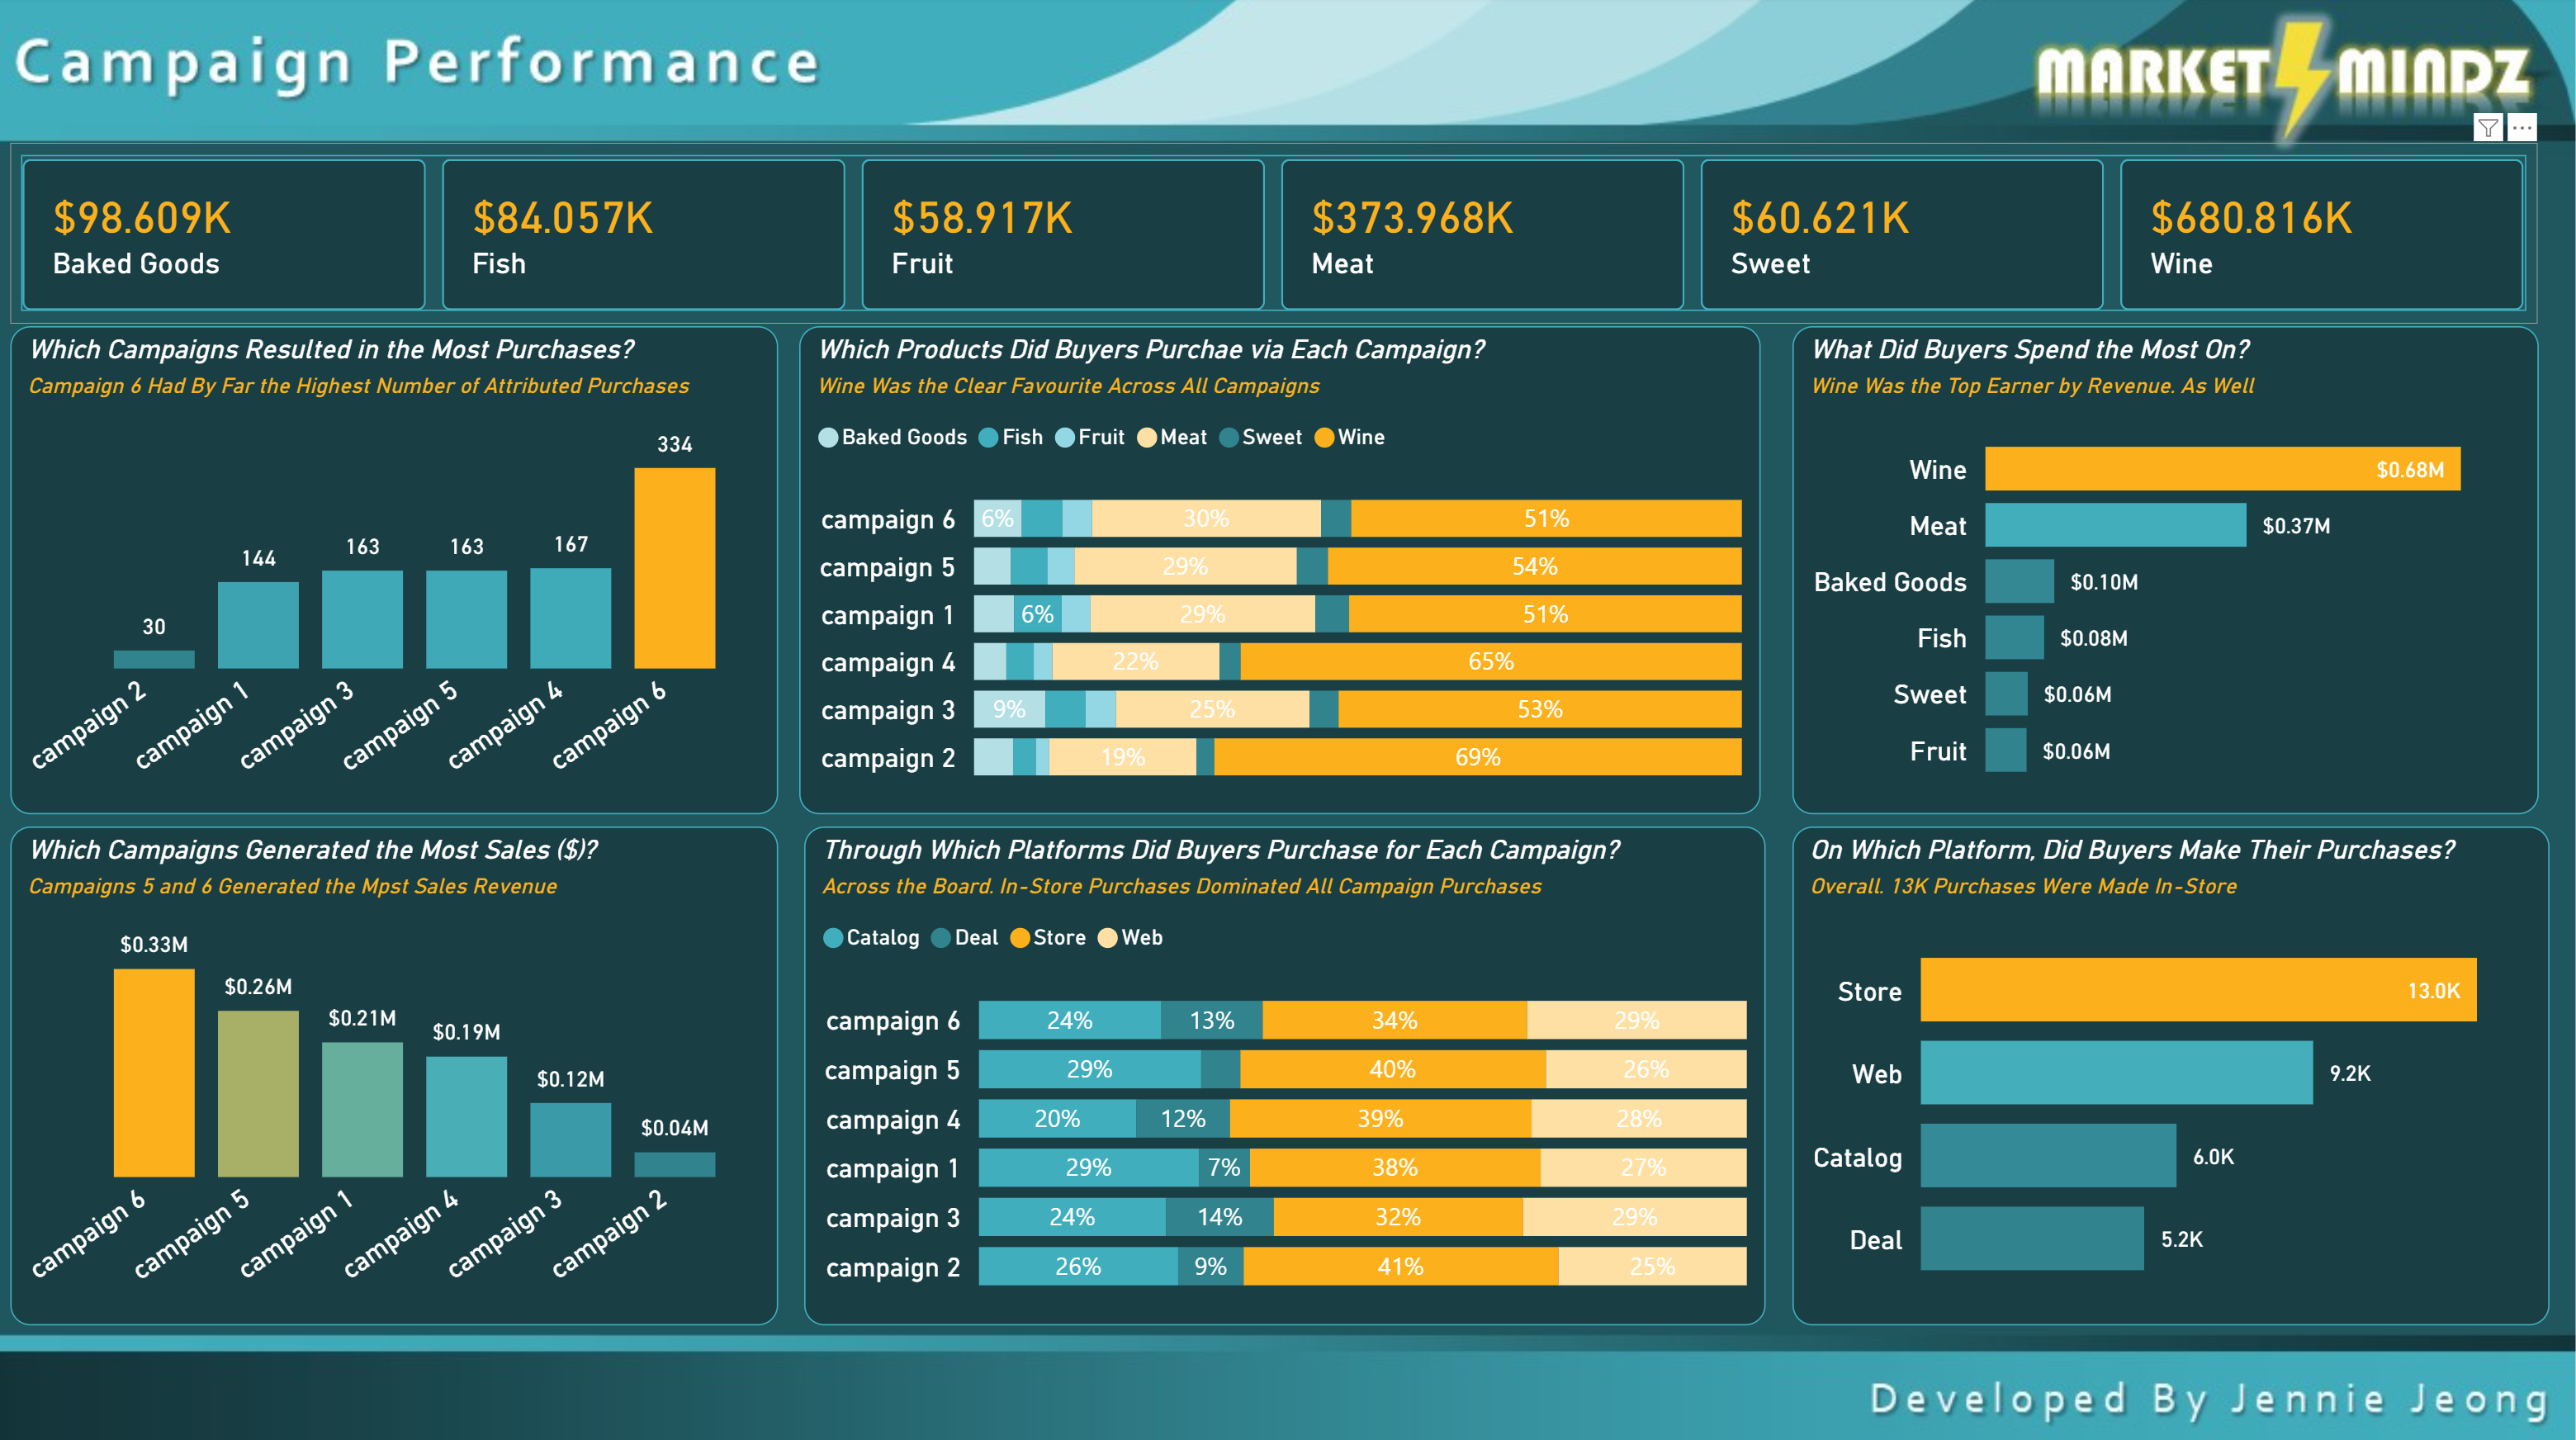

The dashboard page shown, as its layout file describes it:
{"tool":"powerbi","page":{"name":"Campaign Performance","canvas":[1280,720],"ordinal":0},"visuals":[{"type":"clusteredColumnChart","title":"Which Campaigns Resulted in the Most Purchases?","fields":{"Category":["Campaign.Campaign"],"Y":["Sum(Campaign.Accepted_Ind)"]},"box":[8.2,163.2,380.8,242.3],"z":0},{"type":"clusteredColumnChart","title":"Which Campaigns Generated the Most Sales ($)?","fields":{"Y":["Sum(Products.Total Sales)"],"Category":["Campaign.Campaign"]},"box":[8.2,411.1,380.8,247.3],"z":1000},{"type":"hundredPercentStackedBarChart","title":"Which Products Did Buyers Purchae via Each Campaign?","fields":{"Category":["Campaign.Campaign"],"Y":["Sum(Products.Total Sales)"],"Series":["Products.Product"]},"box":[399.1,163.2,476.9,242.3],"z":2000},{"type":"clusteredBarChart","title":"What Did Buyers Spend the Most On?","fields":{"Category":["Products.Product"],"Y":["Sum(Products.Total Sales)"]},"box":[891.2,163.2,370,242.3],"z":3000},{"type":"hundredPercentStackedBarChart","title":"Through Which Platforms Did Buyers Purchase for Each Campaign?","fields":{"Category":["Campaign.Campaign"],"Y":["Sum(Platform.Qty)"],"Series":["Platform.Platform"]},"box":[401.6,411.1,476.9,247.3],"z":4000},{"type":"clusteredBarChart","title":"On Which Platform, Did Buyers Make Their Purchases?","fields":{"Category":["Platform.Platform"],"Y":["Sum(Platform.Qty)"]},"box":[891.2,411.1,375.1,247.3],"z":5000},{"type":"cardVisual","fields":{"Data":["Sum(marketmindz_research_data.amount_baked_products)","Sum(marketmindz_research_data.amount_fish_products)","Sum(marketmindz_research_data.amount_fruit_products)","Sum(marketmindz_research_data.amount_meat_products)","Sum(marketmindz_research_data.amount_sweet_products)","Sum(marketmindz_research_data.amount_wine_products)"]},"box":[8.2,72.7,1253,89.2],"z":6000}]}

Visuals, with their boxes in screenshot pixels (x1, y1, x2, y2), scaled from the page's 1280x720 canvas onto the 2576x1440 screenshot:
"Which Campaigns Resulted in the Most Purchases?" clusteredColumnChart: <bbox>17, 326, 783, 811</bbox>
"Which Campaigns Generated the Most Sales ($)?" clusteredColumnChart: <bbox>17, 822, 783, 1317</bbox>
"Which Products Did Buyers Purchae via Each Campaign?" hundredPercentStackedBarChart: <bbox>803, 326, 1763, 811</bbox>
"What Did Buyers Spend the Most On?" clusteredBarChart: <bbox>1793, 326, 2538, 811</bbox>
"Through Which Platforms Did Buyers Purchase for Each Campaign?" hundredPercentStackedBarChart: <bbox>808, 822, 1768, 1317</bbox>
"On Which Platform, Did Buyers Make Their Purchases?" clusteredBarChart: <bbox>1793, 822, 2549, 1317</bbox>
cardVisual - Sum(marketmindz_research_data.amount_baked_products) x Sum(marketmindz_research_data.amount_fish_products): <bbox>17, 145, 2538, 324</bbox>
